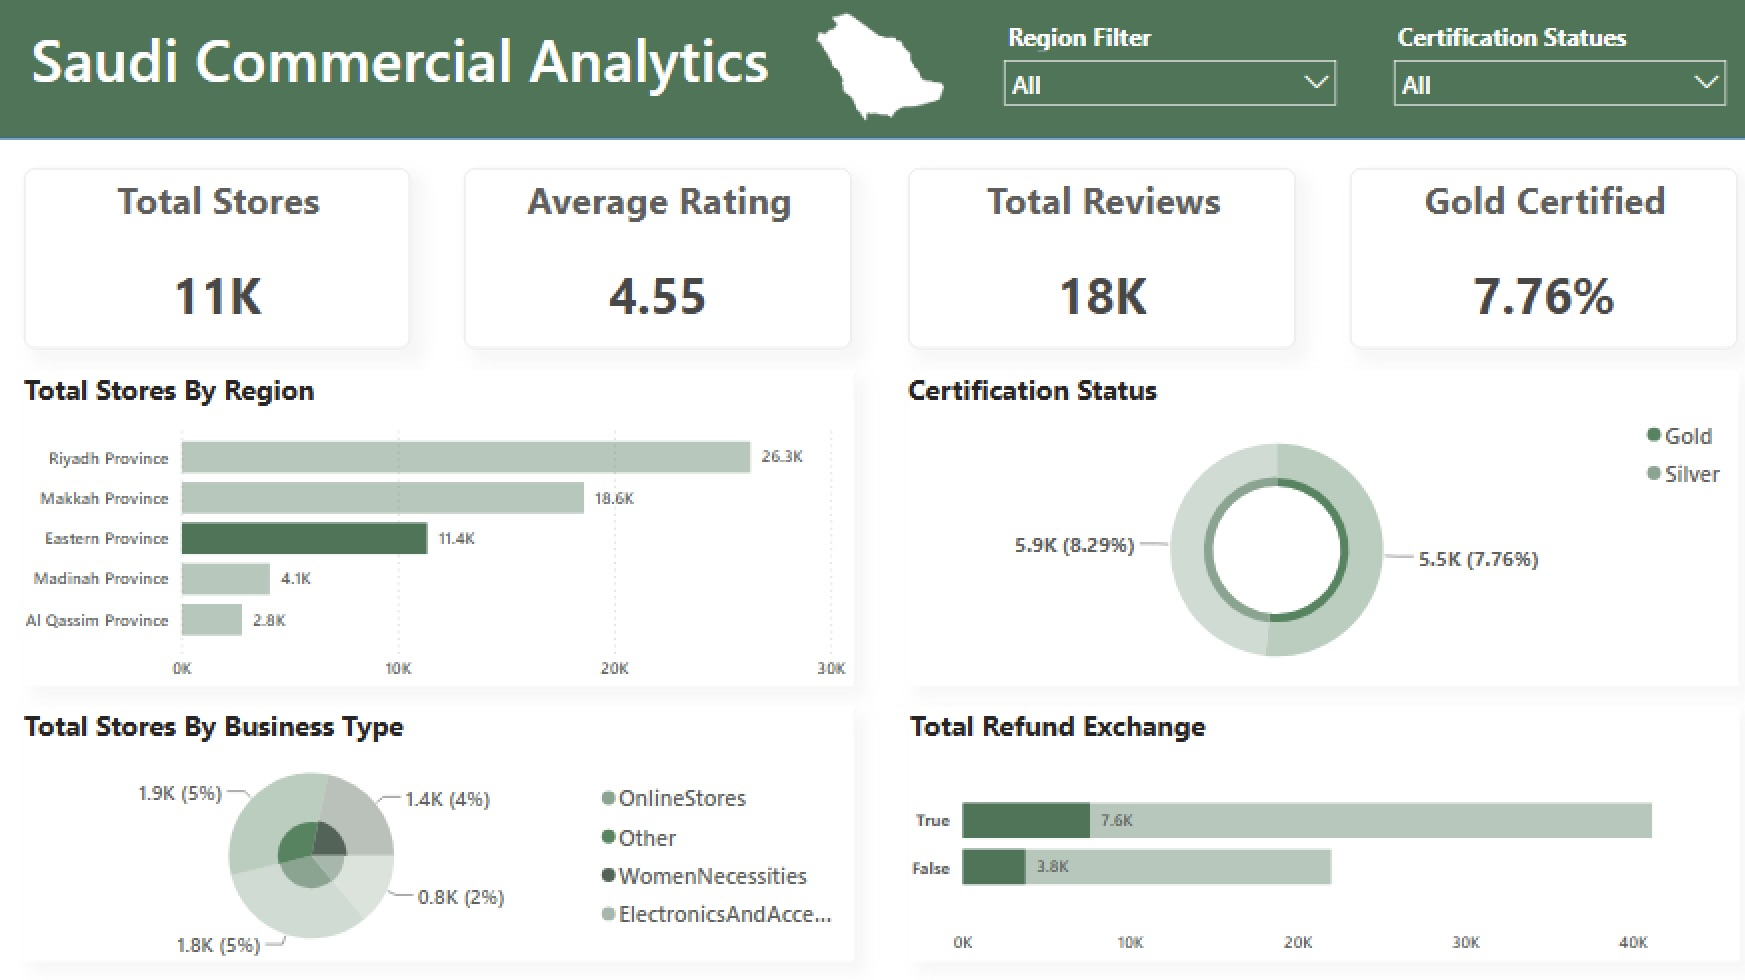

The page's visual inventory and layout, read from the dashboard file:
{"tool":"powerbi","page":{"name":"Dashboard","canvas":[1280,720],"ordinal":0},"visuals":[{"type":"cardVisual","title":"Total Stores","fields":{"Data":["measures_table.Total_Stores"]},"box":[20.4,124.1,279.6,131.5],"z":0},{"type":"cardVisual","title":"Average Rating ","fields":{"Data":["measures_table.Avrage_Rating"]},"box":[338.9,124.1,281.5,131.5],"z":1000},{"type":"cardVisual","title":"Gold Certified","fields":{"Data":["measures_table.% Gold_certified"]},"box":[981.5,124.1,281.5,131.5],"z":2000},{"type":"cardVisual","title":"Total Reviews","fields":{"Data":["measures_table.Total_Reviews"]},"box":[661.1,124.1,281.5,131.5],"z":3000},{"type":"shape","box":[0,0,1279.6,103.7],"z":4000},{"type":"textbox","box":[20,11.4,557.1,80],"z":5000},{"type":"image","box":[524.1,0,231.5,101.9],"z":6000},{"type":"clusteredBarChart","title":"Total Stores By Region","fields":{"Y":["measures_table.Total_Stores"],"Category":["dim_table.region_name_eng"]},"box":[20.1,271,600.6,228.9],"z":7000},{"type":"donutChart","title":"Certification Status","fields":{"Y":["CountNonNull(dim_table.id)"],"Category":["dim_table.certification_status"]},"box":[661.1,271,602.5,228.9],"z":8000},{"type":"pieChart","title":"Total Stores By Business Type","fields":{"Category":["dim_table.business_sub_type_en"],"Y":["measures_table.Total_Stores"]},"box":[20.1,514.6,600.6,184.9],"z":9000},{"type":"clusteredBarChart","title":"Total Refund Exchange ","fields":{"Category":["dim_table.has_no_refund_exchange"],"Y":["CountNonNull(fact_table.business_id)"]},"box":[662.9,514.6,600.6,184.9],"z":10000},{"type":"slicer","fields":{"Values":["dim_table.region_name_eng"]},"box":[720,11.4,261.4,80],"z":11000},{"type":"slicer","fields":{"Values":["dim_table.certification_status"]},"box":[1002.9,11.4,261.4,80],"z":12000}]}

Visuals, with their boxes in screenshot pixels (x1, y1, x2, y2), scaled from the page's 1280x720 canvas onto the 1745x980 screenshot:
"Total Stores" cardVisual: BBox(28, 169, 409, 348)
"Average Rating " cardVisual: BBox(462, 169, 846, 348)
"Gold Certified" cardVisual: BBox(1338, 169, 1722, 348)
"Total Reviews" cardVisual: BBox(901, 169, 1285, 348)
shape: BBox(0, 0, 1744, 141)
textbox: BBox(27, 16, 787, 124)
image: BBox(714, 0, 1030, 139)
"Total Stores By Region" clusteredBarChart: BBox(27, 369, 846, 680)
"Certification Status" donutChart: BBox(901, 369, 1723, 680)
"Total Stores By Business Type" pieChart: BBox(27, 700, 846, 952)
"Total Refund Exchange " clusteredBarChart: BBox(904, 700, 1723, 952)
slicer - dim_table.region_name_eng: BBox(982, 16, 1338, 124)
slicer - dim_table.certification_status: BBox(1367, 16, 1724, 124)
